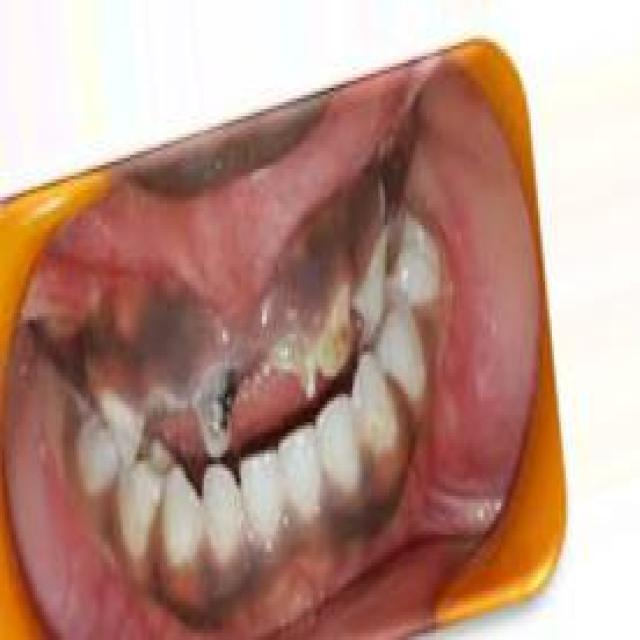caries: (190, 355, 245, 464), (318, 288, 356, 388), (269, 333, 319, 408)
